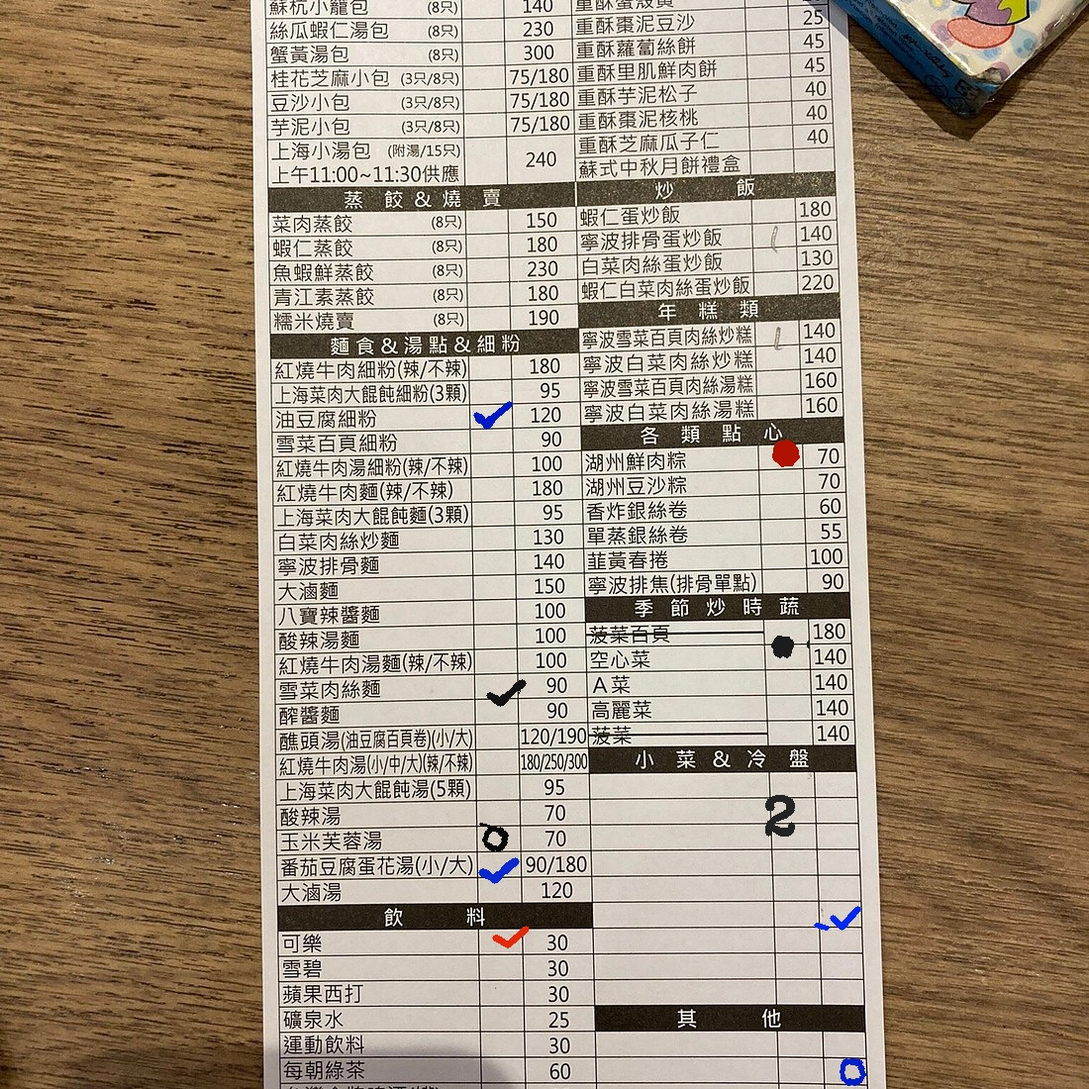marked_circle: (764, 642, 808, 669), (759, 444, 803, 471)
marked_hollow: (824, 1056, 867, 1084), (477, 826, 521, 853)
marked_number_2: (773, 796, 817, 824)
marked_tick: (475, 672, 519, 700), (468, 402, 512, 430), (478, 850, 522, 878), (818, 900, 861, 928), (479, 927, 523, 954)
